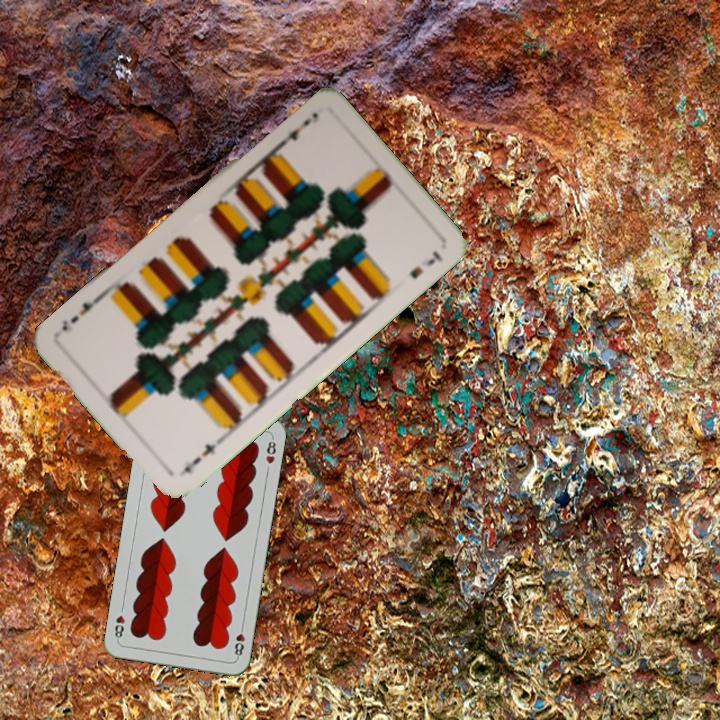E7: (179, 439, 219, 477), (273, 114, 314, 151)
H8: (231, 620, 248, 661)
